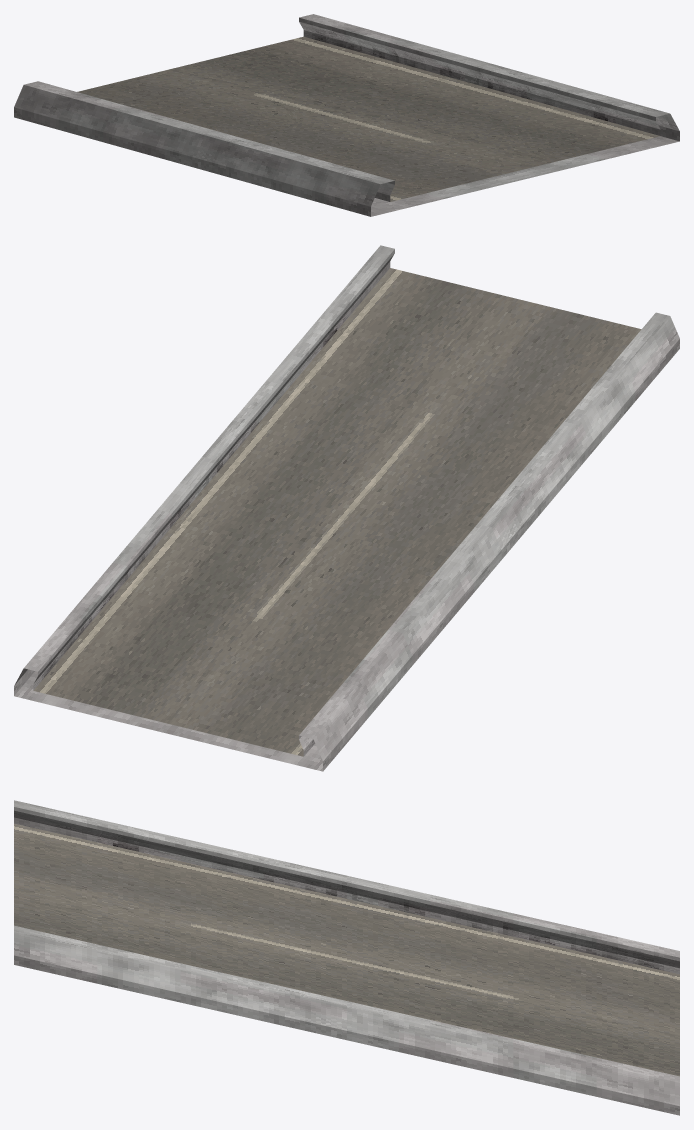
The model's file is straight2.glb.
3 renders of one model, top to bottom at view 1: azimuth 30°, elevation 25°; view 2: azimuth 150°, elevation 25°; view 3: azimuth 270°, elevation 25°, orthographic. The views are drawn at different scales.
Parts seen in each view (by area): view 1: road-Straight-BiSlopeDown-BiSlopeDown-Down2-Center-Size2; view 2: road-Straight-BiSlopeDown-BiSlopeDown-Down2-Center-Size2; view 3: road-Straight-BiSlopeDown-BiSlopeDown-Down2-Center-Size2.
Boxes of the visible parts, left/top/right/bottom form: road-Straight-BiSlopeDown-BiSlopeDown-Down2-Center-Size2: left=14, top=14, right=679, bottom=216; road-Straight-BiSlopeDown-BiSlopeDown-Down2-Center-Size2: left=14, top=245, right=679, bottom=771; road-Straight-BiSlopeDown-BiSlopeDown-Down2-Center-Size2: left=14, top=800, right=679, bottom=1115.
Bounding box in the file's own units: 1 × 0.5938 × 2.
Materials: 2 (2 with a texture image).
